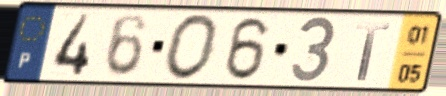3: (288, 13, 338, 88)
4: (49, 10, 93, 78)
6: (219, 15, 273, 84), (103, 12, 149, 79)
O: (162, 12, 223, 83)
T: (353, 20, 392, 83)
